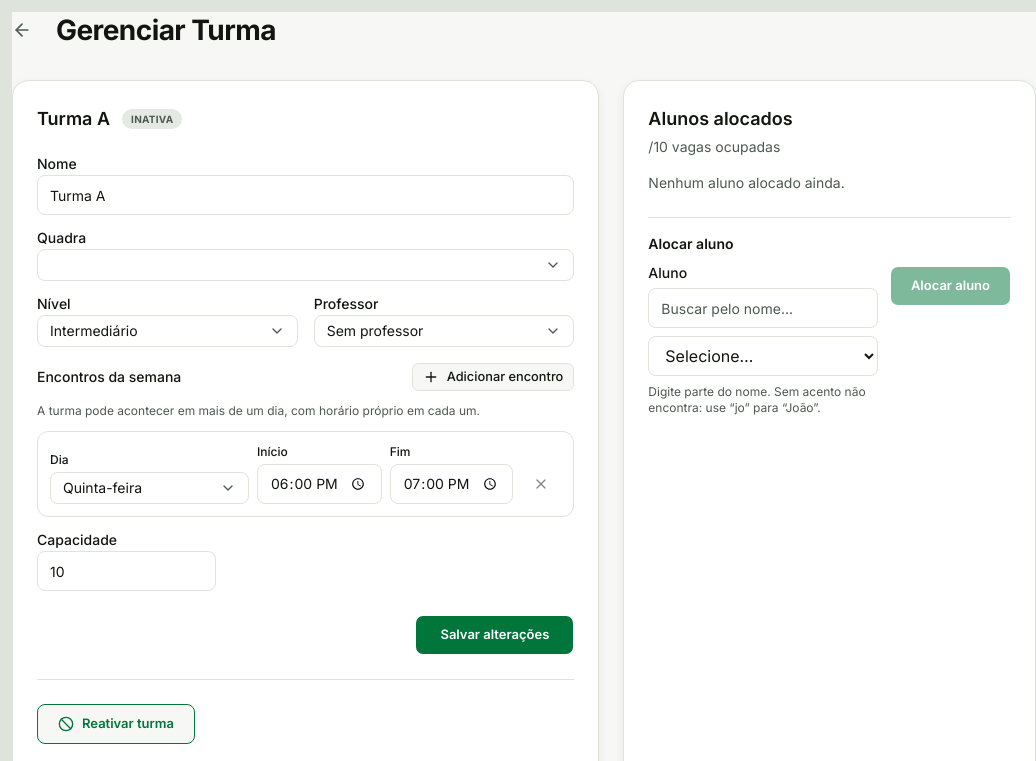
Test: ClassManager — inativar e reativar › um conflito: a mensagem diz UM horário, e o que fazer
What coordinates should you click on to do the following:
click the button "Reativar turma"
I would click on:
 (116, 724)
Its box is [37, 704, 195, 744].
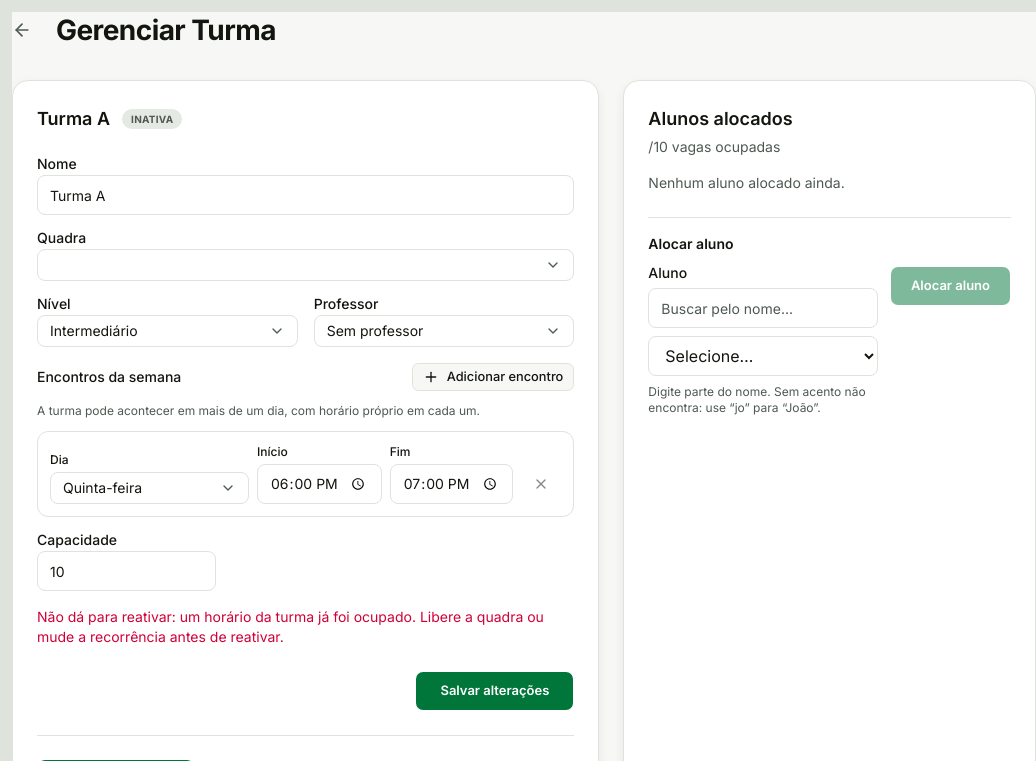
Now the text "Libere a quadra ou mude a recorrência" is shown, box [37, 608, 544, 645]
